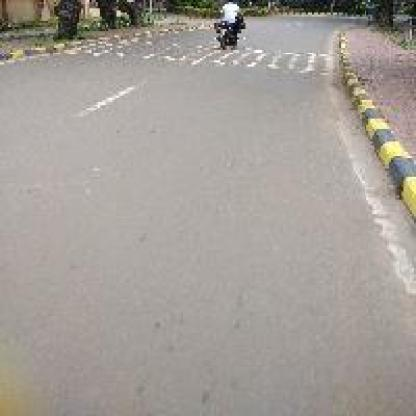Speed Bump: (71, 34, 193, 64)
